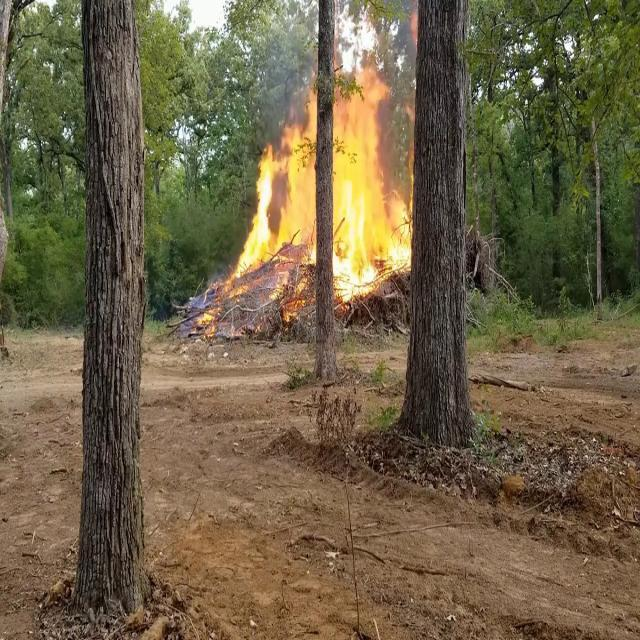Fire: (239, 57, 412, 298), (194, 265, 238, 331)
